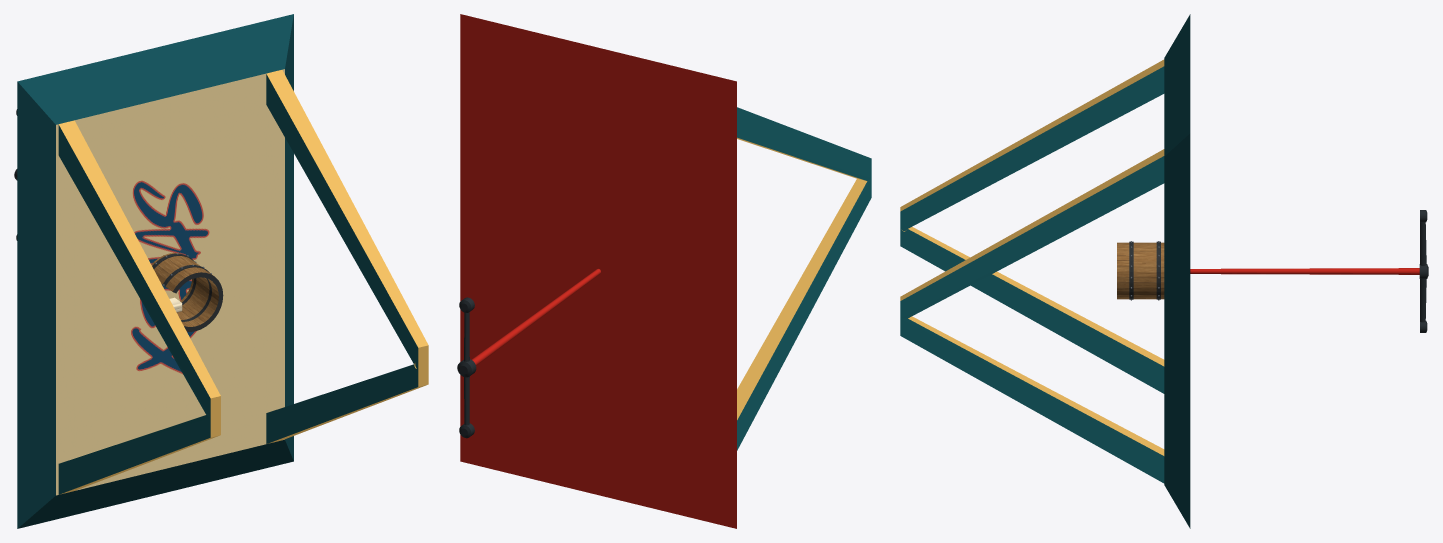
The model's file is ChaViking.obj.
3 renders of one model, left to right at view 1: azimuth 30°, elevation 25°; view 2: azimuth 150°, elevation 25°; view 3: azimuth 270°, elevation 25°, orthographic. The views are drawn at different scales.
Visible parts, largest first — view 1: Base, Caneca_0, Caneca_1; view 2: Base, Haste; view 3: Base, Haste, Caneca_0, Caneca_1.
Boxes of the visible parts, x1=… form: Base: x1=17, y1=14, x2=428, y2=528; Caneca_0: x1=151, y1=253, x2=222, y2=331; Caneca_1: x1=161, y1=255, x2=223, y2=331; Base: x1=460, y1=14, x2=871, y2=528; Haste: x1=457, y1=269, x2=600, y2=438; Base: x1=900, y1=14, x2=1190, y2=528; Haste: x1=1190, y1=210, x2=1428, y2=332; Caneca_0: x1=1117, y1=241, x2=1164, y2=282; Caneca_1: x1=1117, y1=282, x2=1164, y2=299.
Bounding box in the file's own units: 15.19 × 23.49 × 28.43.
Materials: 9 (3 with a texture image).
